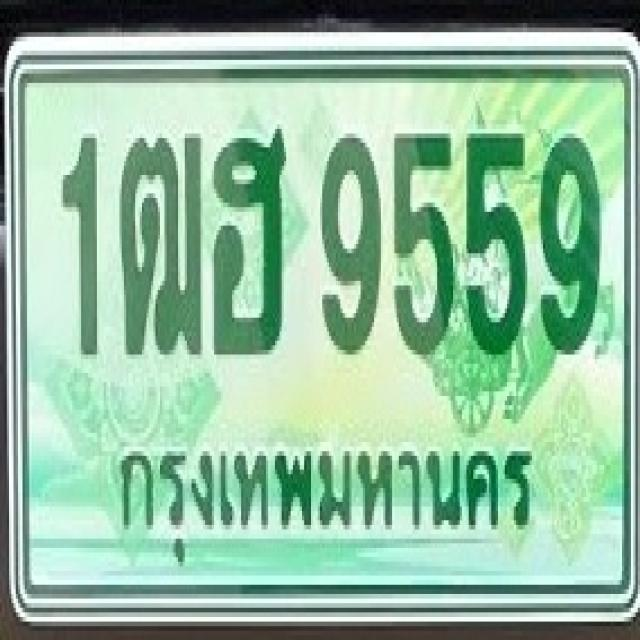license_plate: (4, 35, 640, 629)
